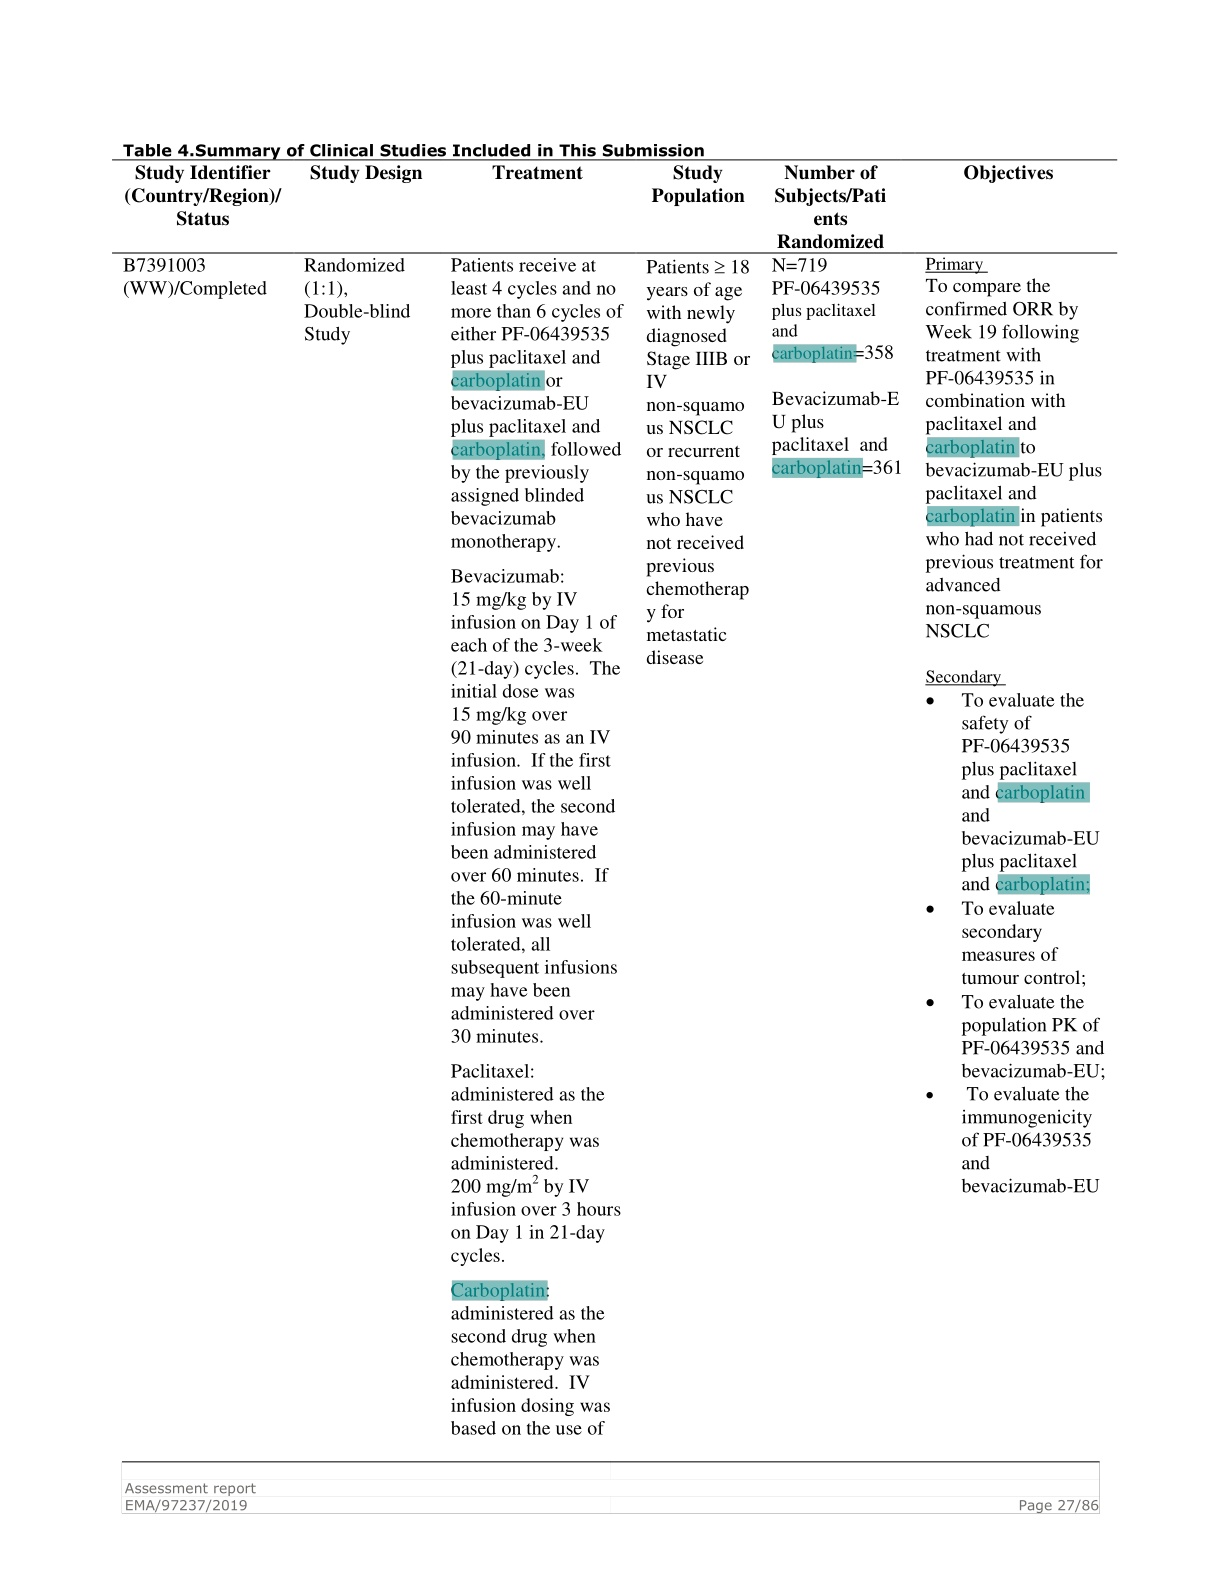partial_lined: (102, 156, 1120, 1473)
